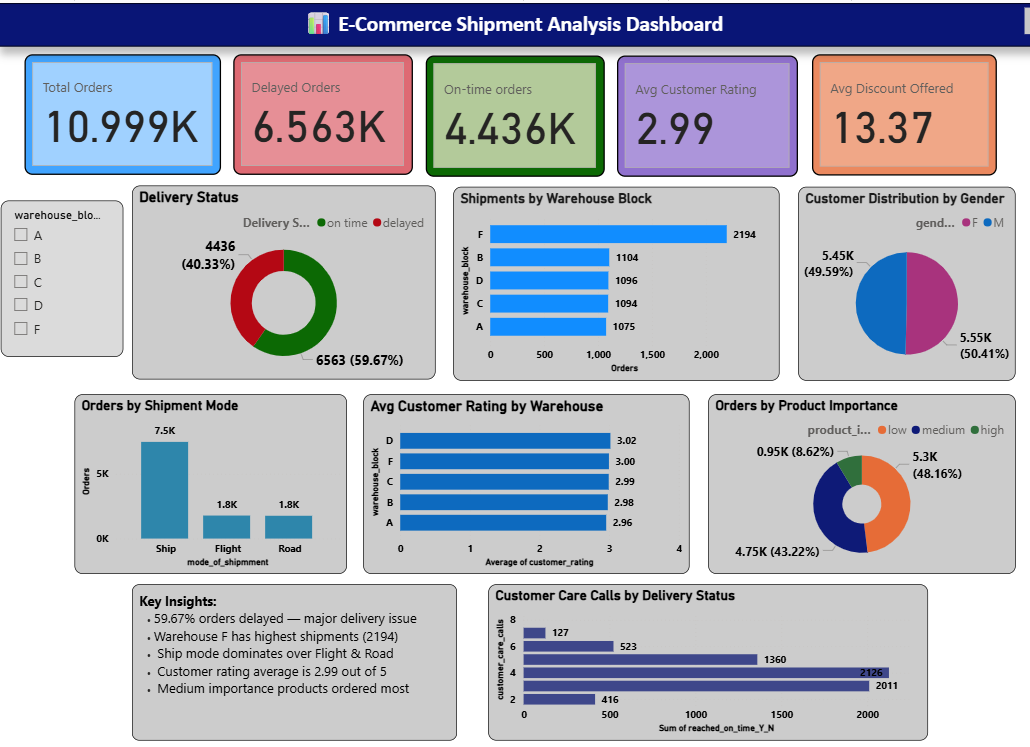

Layout of this report page (visuals, bound fields, positions):
{"tool":"powerbi","page":{"name":"Page 1","canvas":[1280,720],"ordinal":0},"visuals":[{"type":"cardVisual","fields":{"Data":["CountNonNull(ecommerce shipping_analysis.id)"]},"box":[62.1,83.7,241.7,148.6],"z":0},{"type":"cardVisual","fields":{"Data":["ecommerce shipping_analysis.Avg Rating"]},"box":[768.4,83.7,208,148.6],"z":1000},{"type":"cardVisual","fields":{"Data":["ecommerce shipping_analysis.Avg Discount Offered"]},"box":[985.9,83.7,216.1,148.6],"z":2000},{"type":"donutChart","title":"Delivery Status","fields":{"Y":["CountNonNull(ecommerce shipping_analysis.id)"],"Category":["ecommerce shipping_analysis.Delivery Status"]},"box":[212,244.4,278.2,239],"z":3000},{"type":"clusteredBarChart","title":"Warehouse Shipments","fields":{"Y":["CountNonNull(ecommerce shipping_analysis.id)"],"Category":["ecommerce shipping_analysis.warehouse_block"]},"box":[499.7,244.4,407.9,239],"z":4000},{"type":"clusteredColumnChart","title":"Shipment Modes","fields":{"Category":["ecommerce shipping_analysis.mode_of_shipmment"],"Y":["CountNonNull(ecommerce shipping_analysis.id)"]},"box":[126.9,494.3,297.1,214.7],"z":5000},{"type":"clusteredBarChart","title":"Warehouse Ratings","fields":{"Category":["ecommerce shipping_analysis.warehouse_block"],"Y":["Avg(ecommerce shipping_analysis.customer_rating)"]},"box":[433.5,494.3,367.3,214.7],"z":6000},{"type":"pieChart","title":"Customer Gender","fields":{"Category":["ecommerce shipping_analysis.gender"],"Y":["CountNonNull(ecommerce shipping_analysis.id)"]},"box":[918.3,244.4,297.1,239],"z":7000},{"type":"slicer","fields":{"Values":["ecommerce shipping_analysis.warehouse_block"]},"box":[20.3,244.4,181,182.3],"z":8000},{"type":"donutChart","title":"Product Importance","fields":{"Category":["ecommerce shipping_analysis.product_importance"],"Y":["CountNonNull(ecommerce shipping_analysis.id)"]},"box":[814.4,494.3,322.8,214.7],"z":9000},{"type":"cardVisual","fields":{"Data":["CountNonNull(ecommerce shipping_analysis.id)"]},"box":[313.3,83.7,222.8,148.6],"z":10000},{"type":"cardVisual","fields":{"Data":["CountNonNull(ecommerce shipping_analysis.id)"]},"box":[545.6,83.7,212,148.6],"z":11000},{"type":"textbox","box":[0,0,1280.3,67.5],"z":11001}]}

Visuals, with their boxes on the page's 1280x720 design canvas (x1, y1, x2, y2). These are canvas units, not pixel positions in the 1030x747 screenshot, which may show the page scaled, cropped or inside an application window:
cardVisual - CountNonNull(ecommerce shipping_analysis.id): l=62, t=84, r=304, b=232
cardVisual - ecommerce shipping_analysis.Avg Rating: l=768, t=84, r=976, b=232
cardVisual - ecommerce shipping_analysis.Avg Discount Offered: l=986, t=84, r=1202, b=232
"Delivery Status" donutChart: l=212, t=244, r=490, b=483
"Warehouse Shipments" clusteredBarChart: l=500, t=244, r=908, b=483
"Shipment Modes" clusteredColumnChart: l=127, t=494, r=424, b=709
"Warehouse Ratings" clusteredBarChart: l=434, t=494, r=801, b=709
"Customer Gender" pieChart: l=918, t=244, r=1215, b=483
slicer - ecommerce shipping_analysis.warehouse_block: l=20, t=244, r=201, b=427
"Product Importance" donutChart: l=814, t=494, r=1137, b=709
cardVisual - CountNonNull(ecommerce shipping_analysis.id): l=313, t=84, r=536, b=232
cardVisual - CountNonNull(ecommerce shipping_analysis.id): l=546, t=84, r=758, b=232
textbox: l=0, t=0, r=1280, b=68
